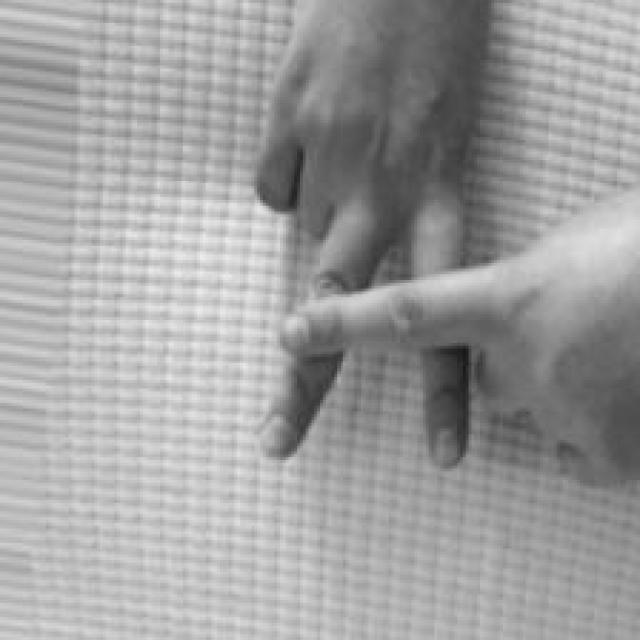A: (249, 0, 640, 495)
